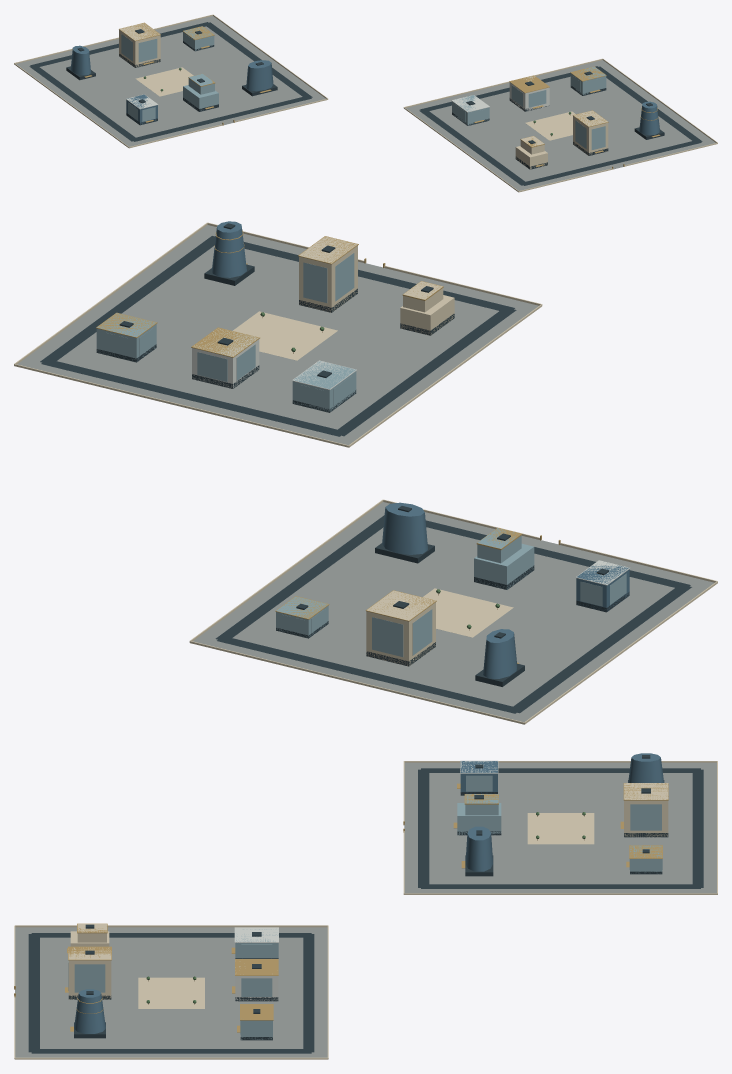
File: GC-TILE-01-23.glb
The picture shows the model from 3 angles, top to bottom: view 1: azimuth 30°, elevation 25°; view 2: azimuth 150°, elevation 25°; view 3: azimuth 270°, elevation 25°; orthographic projection. The views are drawn at different scales.
Parts seen in each view (by area): view 1: GC-TILE-01-23-paving, GC-TILE-01-23-dark, GC-TILE-01-23-ivory, GC-TILE-01-23-glass, GC-TILE-01-23-blue, GC-TILE-01-23-gold, GC-TILE-01-23-white; view 2: GC-TILE-01-23-paving, GC-TILE-01-23-dark, GC-TILE-01-23-ivory, GC-TILE-01-23-glass, GC-TILE-01-23-blue, GC-TILE-01-23-gold, GC-TILE-01-23-white; view 3: GC-TILE-01-23-paving, GC-TILE-01-23-dark, GC-TILE-01-23-ivory, GC-TILE-01-23-glass, GC-TILE-01-23-blue, GC-TILE-01-23-gold, GC-TILE-01-23-white.
Boxes of the visible parts, bbox=[...] form: GC-TILE-01-23-paving: bbox=[16, 16, 715, 190]; GC-TILE-01-23-dark: bbox=[29, 22, 702, 185]; GC-TILE-01-23-ivory: bbox=[14, 14, 717, 192]; GC-TILE-01-23-glass: bbox=[121, 26, 606, 149]; GC-TILE-01-23-blue: bbox=[71, 45, 659, 135]; GC-TILE-01-23-gold: bbox=[84, 22, 660, 169]; GC-TILE-01-23-white: bbox=[126, 75, 549, 112]; GC-TILE-01-23-paving: bbox=[17, 225, 714, 721]; GC-TILE-01-23-dark: bbox=[40, 223, 691, 713]; GC-TILE-01-23-ivory: bbox=[14, 222, 717, 724]; GC-TILE-01-23-glass: bbox=[96, 253, 626, 656]; GC-TILE-01-23-blue: bbox=[212, 221, 629, 678]; GC-TILE-01-23-gold: bbox=[96, 230, 560, 663]; GC-TILE-01-23-white: bbox=[192, 328, 630, 585]; GC-TILE-01-23-paving: bbox=[15, 762, 716, 1057]; GC-TILE-01-23-dark: bbox=[28, 755, 703, 1053]; GC-TILE-01-23-ivory: bbox=[14, 761, 717, 1059]; GC-TILE-01-23-glass: bbox=[68, 775, 662, 1039]; GC-TILE-01-23-blue: bbox=[74, 753, 663, 1033]; GC-TILE-01-23-gold: bbox=[14, 783, 668, 1032]; GC-TILE-01-23-white: bbox=[234, 760, 498, 1001].
Bounding box in the file's own units: 759 × 49.15 × 760.
